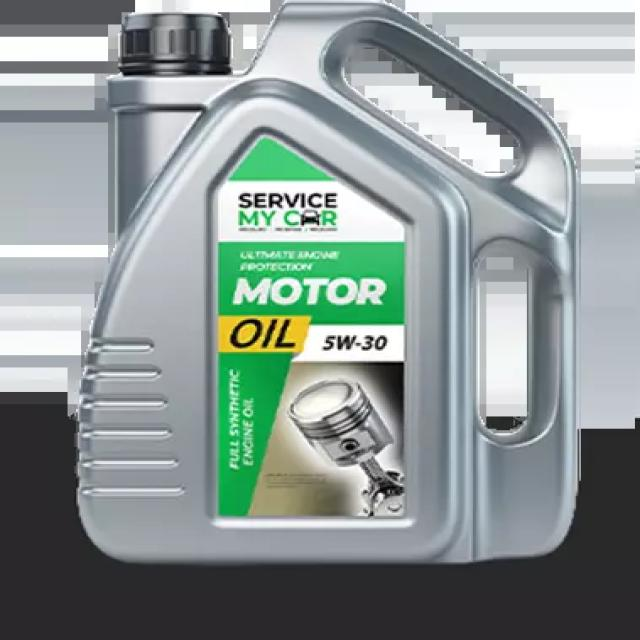motor_oil: (70, 1, 584, 571)
